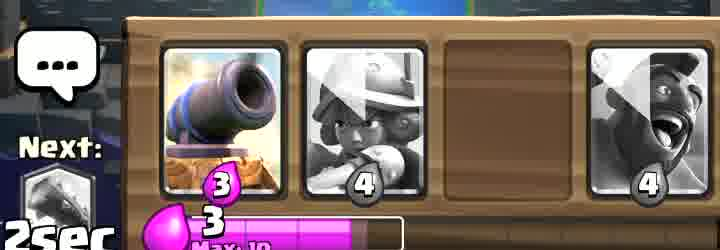cannon: (164, 54, 271, 196)
hog-rider: (584, 66, 684, 207)
